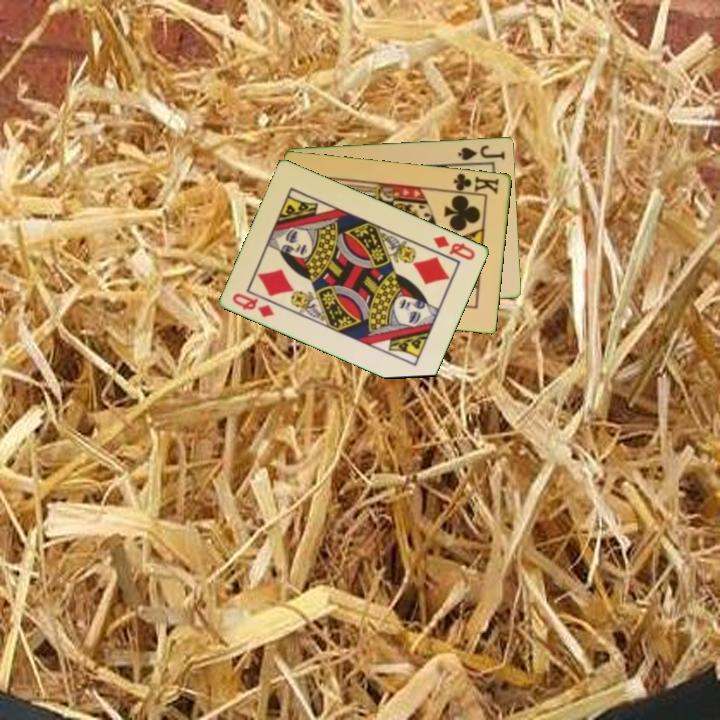Js: (455, 142, 508, 163)
Kc: (447, 170, 502, 197)
Qd: (430, 232, 479, 263), (229, 289, 278, 320)
